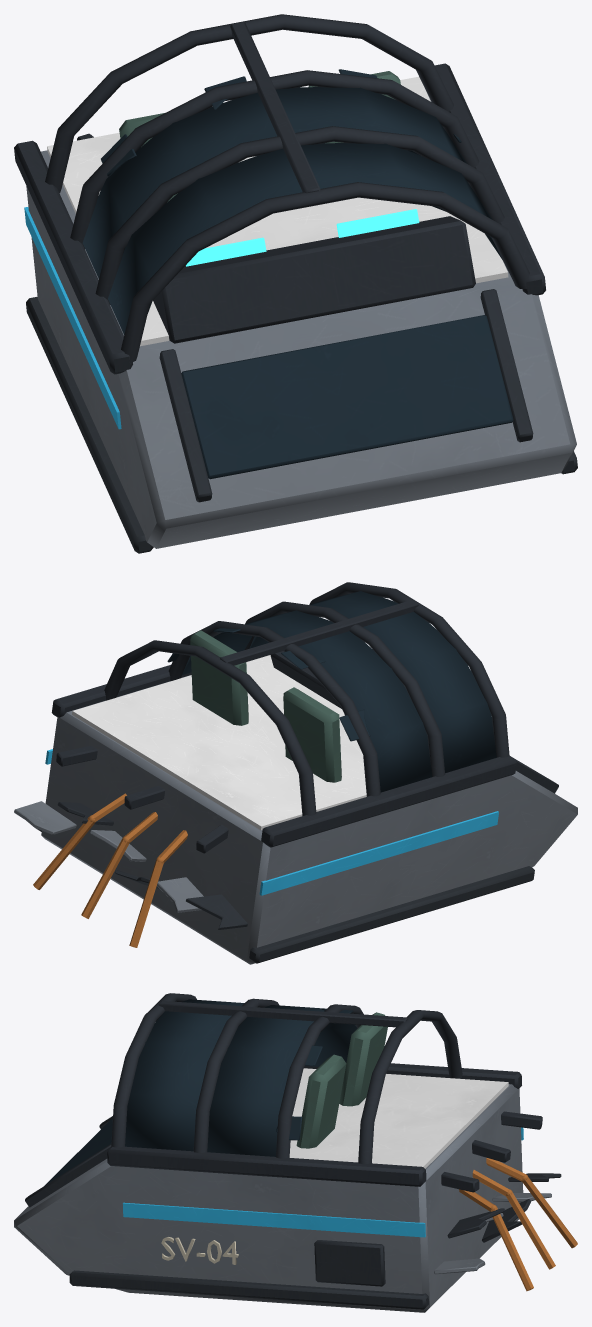
Rendered from cockpit_section.glb.
3 renders of one model, top to bottom at view 1: azimuth 30°, elevation 25°; view 2: azimuth 150°, elevation 25°; view 3: azimuth 270°, elevation 25°, orthographic. The views are drawn at different scales.
Visible parts, largest first — view 1: cockpit_section; view 2: cockpit_section; view 3: cockpit_section.
Part boxes in pixels (box(x1,y1,x2,y2)): cockpit_section: box(14, 14, 577, 553); cockpit_section: box(14, 582, 577, 964); cockpit_section: box(14, 993, 577, 1312).
Bounding box in the file's own units: 3.08 × 2.01 × 3.91.
9 materials, 8 textured.
